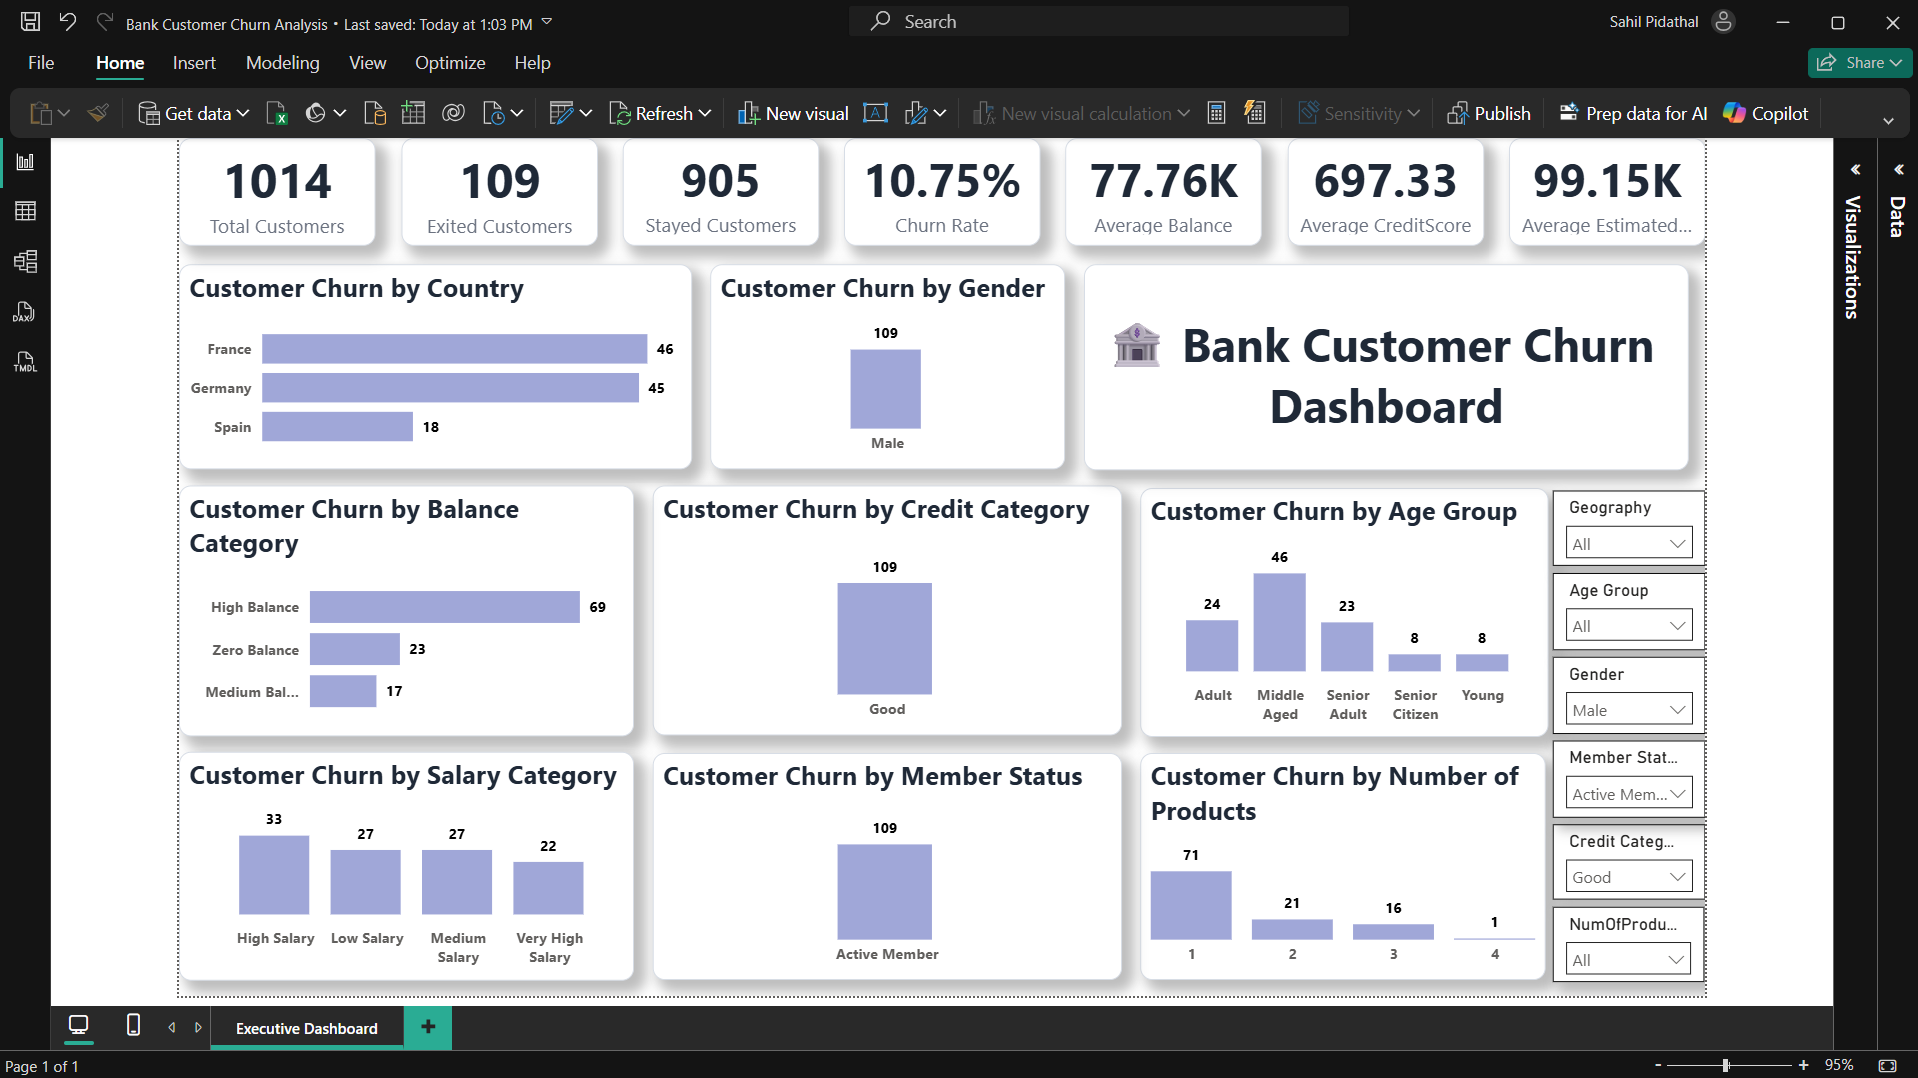

Layout of this report page (visuals, bound fields, positions):
{"tool":"powerbi","page":{"name":"Executive Dashboard","canvas":[1280,720],"ordinal":0},"visuals":[{"type":"card","fields":{"Values":["Bank Customers.Exited Customers"]},"box":[186.2,-0.4,165,90],"z":0},{"type":"card","fields":{"Values":["Bank Customers.Stayed Customers"]},"box":[372.1,-0.4,165,90],"z":1000},{"type":"card","fields":{"Values":["Bank Customers.Churn Rate"]},"box":[557.9,-0.4,165,90],"z":2000},{"type":"card","fields":{"Values":["Bank Customers.Average Balance"]},"box":[743.7,-0.4,165,90],"z":3000},{"type":"clusteredBarChart","title":"Customer Churn by Country","fields":{"Category":["Bank Customers.Geography"],"Y":["Bank Customers.Exited Customers"]},"box":[0,106,430.1,172.1],"z":4000},{"type":"clusteredColumnChart","title":"Customer Churn by Gender","fields":{"Category":["Bank Customers.Gender"],"Y":["Bank Customers.Exited Customers"]},"box":[445.5,106,298,172.1],"z":5000},{"type":"clusteredColumnChart","title":"Customer Churn by Age Group","fields":{"Category":["Bank Customers.Age Group"],"Y":["Bank Customers.Exited Customers"]},"box":[806.1,293.6,342.1,209],"z":6000},{"type":"clusteredColumnChart","title":"Customer Churn by Number of Products","fields":{"Category":["Bank Customers.NumOfProducts"],"Y":["Bank Customers.Exited Customers"]},"box":[806.6,516.2,340.4,190.8],"z":7000},{"type":"clusteredColumnChart","title":"Customer Churn by Credit Category","fields":{"Category":["Bank Customers.Credit Category"],"Y":["Bank Customers.Exited Customers"]},"box":[396.8,291.7,394,209.5],"z":8000},{"type":"clusteredBarChart","title":"Customer Churn by Balance Category","fields":{"Category":["Bank Customers.Balance Category"],"Y":["Bank Customers.Exited Customers"]},"box":[0,291,381.5,210.7],"z":9000},{"type":"clusteredColumnChart","title":"Customer Churn by Salary Category","fields":{"Category":["Bank Customers.Salary Category"],"Y":["Bank Customers.Exited Customers"]},"box":[0.4,514.6,381.7,191.7],"z":10000},{"type":"clusteredColumnChart","title":"Customer Churn by Member Status","fields":{"Category":["Bank Customers.Member Status"],"Y":["Bank Customers.Exited Customers"]},"box":[397.4,516.2,394,190.8],"z":11000},{"type":"slicer","fields":{"Values":["Bank Customers.Geography"]},"box":[1151.9,296.1,128.1,63.4],"z":12000},{"type":"card","fields":{"Values":["Bank Customers.Average EstimatedSalary"]},"box":[1115.4,-0.4,165,90],"z":13000},{"type":"card","fields":{"Values":["Bank Customers.Total Customer"]},"box":[0.4,-0.4,165,90],"z":14000},{"type":"card","fields":{"Values":["Bank Customers.Average CreditScore"]},"box":[929.6,-0.4,165,90],"z":15000},{"type":"slicer","fields":{"Values":["Bank Customers.Age Group"]},"box":[1151.9,365,128.1,64.7],"z":16000},{"type":"slicer","fields":{"Values":["Bank Customers.Credit Category"]},"box":[1151.9,575.5,128.1,63.4],"z":17000},{"type":"slicer","fields":{"Values":["Bank Customers.Gender"]},"box":[1151.9,435.1,128.1,64.7],"z":18000},{"type":"slicer","fields":{"Values":["Bank Customers.NumOfProducts"]},"box":[1151.9,644.4,126.9,63.4],"z":19000},{"type":"slicer","fields":{"Values":["Bank Customers.Member Status"]},"box":[1151.9,505.3,128.1,64.7],"z":20000},{"type":"card","fields":{"Values":["Bank Customers.Dashboard Title"]},"box":[758.8,105.7,507.5,172.9],"z":21000}]}

Visuals, with their boxes on the page's 1280x720 design canvas (x1, y1, x2, y2). These are canvas units, not pixel positions in the 1918x1078 screenshot, which may show the page scaled, cropped or inside an application window:
card - Bank Customers.Exited Customers: region(186, 0, 351, 90)
card - Bank Customers.Stayed Customers: region(372, 0, 537, 90)
card - Bank Customers.Churn Rate: region(558, 0, 723, 90)
card - Bank Customers.Average Balance: region(744, 0, 909, 90)
"Customer Churn by Country" clusteredBarChart: region(0, 106, 430, 278)
"Customer Churn by Gender" clusteredColumnChart: region(446, 106, 744, 278)
"Customer Churn by Age Group" clusteredColumnChart: region(806, 294, 1148, 503)
"Customer Churn by Number of Products" clusteredColumnChart: region(807, 516, 1147, 707)
"Customer Churn by Credit Category" clusteredColumnChart: region(397, 292, 791, 501)
"Customer Churn by Balance Category" clusteredBarChart: region(0, 291, 382, 502)
"Customer Churn by Salary Category" clusteredColumnChart: region(0, 515, 382, 706)
"Customer Churn by Member Status" clusteredColumnChart: region(397, 516, 791, 707)
slicer - Bank Customers.Geography: region(1152, 296, 1280, 360)
card - Bank Customers.Average EstimatedSalary: region(1115, 0, 1280, 90)
card - Bank Customers.Total Customer: region(0, 0, 165, 90)
card - Bank Customers.Average CreditScore: region(930, 0, 1095, 90)
slicer - Bank Customers.Age Group: region(1152, 365, 1280, 430)
slicer - Bank Customers.Credit Category: region(1152, 576, 1280, 639)
slicer - Bank Customers.Gender: region(1152, 435, 1280, 500)
slicer - Bank Customers.NumOfProducts: region(1152, 644, 1279, 708)
slicer - Bank Customers.Member Status: region(1152, 505, 1280, 570)
card - Bank Customers.Dashboard Title: region(759, 106, 1266, 279)
